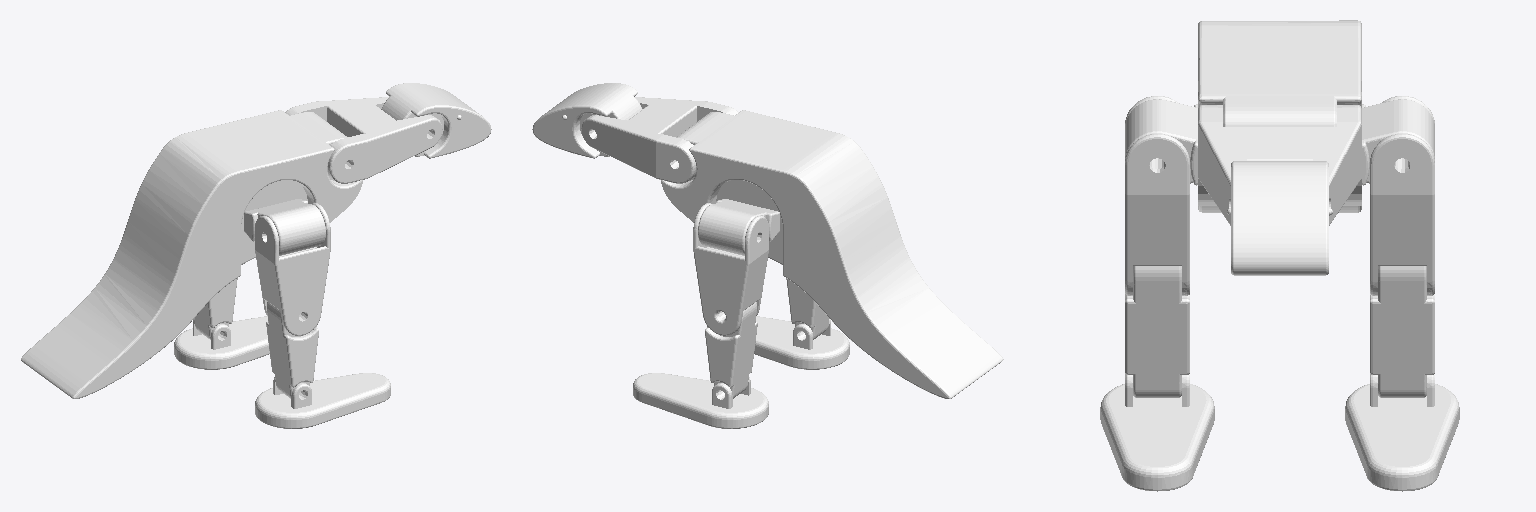
The robot description file, URDF, robot "shi2d2_urdf":
<?xml version="1.0" encoding="utf-8"?>
<!-- This URDF was automatically created by SolidWorks to URDF Exporter! Originally created by Stephen Brawner (brawner@gmail.com) 
     Commit Version: 1.6.0-4-g7f85cfe  Build Version: 1.6.7995.38578
     For more information, please see http://wiki.ros.org/sw_urdf_exporter -->
<robot
  name="shi2d2_urdf">
  <link
    name="body_link">
    <inertial>
      <origin
        xyz="-0.063884 -2.5097E-06 -0.092676"
        rpy="0 0 0" />
      <mass
        value="4.0108" />
      <inertia
        ixx="0.020483"
        ixy="2.1664E-07"
        ixz="-0.017143"
        iyy="0.047181"
        iyz="4.3743E-07"
        izz="0.036127" />
    </inertial>
    <visual>
      <origin
        xyz="0 0 0"
        rpy="0 0 0" />
      <geometry>
        <mesh
          filename="package://shi2d2_urdf/meshes/body_link.STL" />
      </geometry>
      <material
        name="">
        <color
          rgba="1 1 1 1" />
      </material>
    </visual>
    <collision>
      <origin
        xyz="0 0 0"
        rpy="0 0 0" />
      <geometry>
        <mesh
          filename="package://shi2d2_urdf/meshes/body_link.STL" />
      </geometry>
    </collision>
  </link>
  <link
    name="neck_link">
    <inertial>
      <origin
        xyz="0.05422 -5.7504E-08 -2.9221E-08"
        rpy="0 0 0" />
      <mass
        value="0.45339" />
      <inertia
        ixx="0.00074029"
        ixy="2.3864E-09"
        ixz="7.7418E-10"
        iyy="0.00062178"
        iyz="-2.4138E-09"
        izz="0.0011993" />
    </inertial>
    <visual>
      <origin
        xyz="0 0 0"
        rpy="0 0 0" />
      <geometry>
        <mesh
          filename="package://shi2d2_urdf/meshes/neck_link.STL" />
      </geometry>
      <material
        name="">
        <color
          rgba="1 1 1 1" />
      </material>
    </visual>
    <collision>
      <origin
        xyz="0 0 0"
        rpy="0 0 0" />
      <geometry>
        <mesh
          filename="package://shi2d2_urdf/meshes/neck_link.STL" />
      </geometry>
    </collision>
  </link>
  <joint
    name="body_neck_joint"
    type="revolute">
    <origin
      xyz="0.085712 0 -0.0254"
      rpy="0 0 0" />
    <parent
      link="body_link" />
    <child
      link="neck_link" />
    <axis
      xyz="0 -1 0" />
    <limit
      lower="0"
      upper="0"
      effort="0"
      velocity="0" />
  </joint>
  <link
    name="head_link">
    <inertial>
      <origin
        xyz="0.024239 1.445E-06 -0.0023658"
        rpy="0 0 0" />
      <mass
        value="0.39874" />
      <inertia
        ixx="0.00027907"
        ixy="7.6926E-09"
        ixz="4.2548E-05"
        iyy="0.00047118"
        iyz="-5.8575E-09"
        izz="0.00050315" />
    </inertial>
    <visual>
      <origin
        xyz="0 0 0"
        rpy="0 0 0" />
      <geometry>
        <mesh
          filename="package://shi2d2_urdf/meshes/head_link.STL" />
      </geometry>
      <material
        name="">
        <color
          rgba="1 1 1 1" />
      </material>
    </visual>
    <collision>
      <origin
        xyz="0 0 0"
        rpy="0 0 0" />
      <geometry>
        <mesh
          filename="package://shi2d2_urdf/meshes/head_link.STL" />
      </geometry>
    </collision>
  </link>
  <joint
    name="neck_head_joint"
    type="revolute">
    <origin
      xyz="0.12581 0 0"
      rpy="0 0 0" />
    <parent
      link="neck_link" />
    <child
      link="head_link" />
    <axis
      xyz="0 1 0" />
    <limit
      lower="0"
      upper="0"
      effort="0"
      velocity="0" />
  </joint>
  <link
    name="left_hip_link">
    <inertial>
      <origin
        xyz="4.66677864061071E-09 0.0380494307455075 -6.66067329069264E-09"
        rpy="0 0 0" />
      <mass
        value="0.193010455194921" />
      <inertia
        ixx="0.000110085859650749"
        ixy="3.69671821863013E-12"
        ixz="-2.34237855008357E-12"
        iyy="0.000102815907460849"
        iyz="-1.06977079025306E-11"
        izz="0.000154581134204514" />
    </inertial>
    <visual>
      <origin
        xyz="0 0 0"
        rpy="0 0 0" />
      <geometry>
        <mesh
          filename="package://shi2d2_urdf/meshes/left_hip_link.STL" />
      </geometry>
      <material
        name="">
        <color
          rgba="1 1 1 1" />
      </material>
    </visual>
    <collision>
      <origin
        xyz="0 0 0"
        rpy="0 0 0" />
      <geometry>
        <mesh
          filename="package://shi2d2_urdf/meshes/left_hip_link.STL" />
      </geometry>
    </collision>
  </link>
  <joint
    name="body_left_hip_joint"
    type="revolute">
    <origin
      xyz="-0.0095377 0.04445 -0.0762"
      rpy="0 0 0" />
    <parent
      link="body_link" />
    <child
      link="left_hip_link" />
    <axis
      xyz="0 -1 0" />
    <limit
      lower="0"
      upper="0"
      effort="0"
      velocity="0" />
  </joint>
  <link
    name="left_upper_leg_link">
    <inertial>
      <origin
        xyz="2.39391839684799E-16 -6.02898826157494E-06 -0.0517157329701583"
        rpy="0 0 0" />
      <mass
        value="0.252255455007211" />
      <inertia
        ixx="0.000258279208939625"
        ixy="-7.51960991719161E-11"
        ixz="-2.91550284408147E-20"
        iyy="0.00031322388502802"
        iyz="-7.62486093874917E-08"
        izz="0.000180385108717661" />
    </inertial>
    <visual>
      <origin
        xyz="0 0 0"
        rpy="0 0 0" />
      <geometry>
        <mesh
          filename="package://shi2d2_urdf/meshes/left_upper_leg_link.STL" />
      </geometry>
      <material
        name="">
        <color
          rgba="1 1 1 1" />
      </material>
    </visual>
    <collision>
      <origin
        xyz="0 0 0"
        rpy="0 0 0" />
      <geometry>
        <mesh
          filename="package://shi2d2_urdf/meshes/left_upper_leg_link.STL" />
      </geometry>
    </collision>
  </link>
  <joint
    name="left_hip_left_upper_leg_joint"
    type="revolute">
    <origin
      xyz="0 0.0508 0"
      rpy="0 0 0" />
    <parent
      link="left_hip_link" />
    <child
      link="left_upper_leg_link" />
    <axis
      xyz="1 0 0" />
    <limit
      lower="0"
      upper="0"
      effort="0"
      velocity="0" />
  </joint>
  <link
    name="left_lower_leg_link">
    <inertial>
      <origin
        xyz="-1.5341E-09 -8.1749E-09 -0.038913"
        rpy="0 0 0" />
      <mass
        value="0.21961" />
      <inertia
        ixx="0.00030145"
        ixy="-3.9162E-12"
        ixz="9.0665E-12"
        iyy="0.00029492"
        iyz="-1.3588E-11"
        izz="6.8165E-05" />
    </inertial>
    <visual>
      <origin
        xyz="0 0 0"
        rpy="0 0 0" />
      <geometry>
        <mesh
          filename="package://shi2d2_urdf/meshes/left_lower_leg_link.STL" />
      </geometry>
      <material
        name="">
        <color
          rgba="1 1 1 1" />
      </material>
    </visual>
    <collision>
      <origin
        xyz="0 0 0"
        rpy="0 0 0" />
      <geometry>
        <mesh
          filename="package://shi2d2_urdf/meshes/left_lower_leg_link.STL" />
      </geometry>
    </collision>
  </link>
  <joint
    name="left_upper_leg_left_lower_leg_joint"
    type="revolute">
    <origin
      xyz="0 0 -0.1016"
      rpy="0 0 0" />
    <parent
      link="left_upper_leg_link" />
    <child
      link="left_lower_leg_link" />
    <axis
      xyz="0 -1 0" />
    <limit
      lower="0"
      upper="0"
      effort="0"
      velocity="0" />
  </joint>
  <link
    name="left_foot_link">
    <inertial>
      <origin
        xyz="0.03544 5.5511E-17 -0.024879"
        rpy="0 0 0" />
      <mass
        value="0.23125" />
      <inertia
        ixx="0.00011188"
        ixy="-2.0762E-20"
        ixz="5.2483E-06"
        iyy="0.00047901"
        iyz="-3.1773E-21"
        izz="0.00057052" />
    </inertial>
    <visual>
      <origin
        xyz="0 0 0"
        rpy="0 0 0" />
      <geometry>
        <mesh
          filename="package://shi2d2_urdf/meshes/left_foot_link.STL" />
      </geometry>
      <material
        name="">
        <color
          rgba="1 1 1 1" />
      </material>
    </visual>
    <collision>
      <origin
        xyz="0 0 0"
        rpy="0 0 0" />
      <geometry>
        <mesh
          filename="package://shi2d2_urdf/meshes/left_foot_link.STL" />
      </geometry>
    </collision>
  </link>
  <joint
    name="left_lower_leg_left_foot_joint"
    type="revolute">
    <origin
      xyz="0 0 -0.1016"
      rpy="0 0 0" />
    <parent
      link="left_lower_leg_link" />
    <child
      link="left_foot_link" />
    <axis
      xyz="0 -1 0" />
    <limit
      lower="0"
      upper="0"
      effort="0"
      velocity="0" />
  </joint>
  <link
    name="right_hip_link">
    <inertial>
      <origin
        xyz="4.6668E-09 -0.038049 6.6607E-09"
        rpy="0 0 0" />
      <mass
        value="0.19301" />
      <inertia
        ixx="0.00011009"
        ixy="-3.6967E-12"
        ixz="2.3424E-12"
        iyy="0.00010282"
        iyz="-1.0698E-11"
        izz="0.00015458" />
    </inertial>
    <visual>
      <origin
        xyz="0 0 0"
        rpy="0 0 0" />
      <geometry>
        <mesh
          filename="package://shi2d2_urdf/meshes/right_hip_link.STL" />
      </geometry>
      <material
        name="">
        <color
          rgba="1 1 1 1" />
      </material>
    </visual>
    <collision>
      <origin
        xyz="0 0 0"
        rpy="0 0 0" />
      <geometry>
        <mesh
          filename="package://shi2d2_urdf/meshes/right_hip_link.STL" />
      </geometry>
    </collision>
  </link>
  <joint
    name="body_right_hip_joint"
    type="revolute">
    <origin
      xyz="-0.0095377 -0.04445 -0.0762"
      rpy="0 0 0" />
    <parent
      link="body_link" />
    <child
      link="right_hip_link" />
    <axis
      xyz="0 -1 0" />
    <limit
      lower="0"
      upper="0"
      effort="0"
      velocity="0" />
  </joint>
  <link
    name="right_upper_leg_link">
    <inertial>
      <origin
        xyz="1.0061E-16 -6.029E-06 -0.051716"
        rpy="0 0 0" />
      <mass
        value="0.25226" />
      <inertia
        ixx="0.00025828"
        ixy="-7.5196E-11"
        ixz="-6.9884E-20"
        iyy="0.00031322"
        iyz="-7.6249E-08"
        izz="0.00018039" />
    </inertial>
    <visual>
      <origin
        xyz="0 0 0"
        rpy="0 0 0" />
      <geometry>
        <mesh
          filename="package://shi2d2_urdf/meshes/right_upper_leg_link.STL" />
      </geometry>
      <material
        name="">
        <color
          rgba="1 1 1 1" />
      </material>
    </visual>
    <collision>
      <origin
        xyz="0 0 0"
        rpy="0 0 0" />
      <geometry>
        <mesh
          filename="package://shi2d2_urdf/meshes/right_upper_leg_link.STL" />
      </geometry>
    </collision>
  </link>
  <joint
    name="right_hip_right_upper_leg_joint"
    type="revolute">
    <origin
      xyz="0 -0.0508 0"
      rpy="0 0 0" />
    <parent
      link="right_hip_link" />
    <child
      link="right_upper_leg_link" />
    <axis
      xyz="1 0 0" />
    <limit
      lower="0"
      upper="0"
      effort="0"
      velocity="0" />
  </joint>
  <link
    name="right_lower_leg_link">
    <inertial>
      <origin
        xyz="-1.5341E-09 -8.1749E-09 -0.038913"
        rpy="0 0 0" />
      <mass
        value="0.21961" />
      <inertia
        ixx="0.00030145"
        ixy="-3.9162E-12"
        ixz="9.0665E-12"
        iyy="0.00029492"
        iyz="-1.3588E-11"
        izz="6.8165E-05" />
    </inertial>
    <visual>
      <origin
        xyz="0 0 0"
        rpy="0 0 0" />
      <geometry>
        <mesh
          filename="package://shi2d2_urdf/meshes/right_lower_leg_link.STL" />
      </geometry>
      <material
        name="">
        <color
          rgba="1 1 1 1" />
      </material>
    </visual>
    <collision>
      <origin
        xyz="0 0 0"
        rpy="0 0 0" />
      <geometry>
        <mesh
          filename="package://shi2d2_urdf/meshes/right_lower_leg_link.STL" />
      </geometry>
    </collision>
  </link>
  <joint
    name="right_upper_leg_right_lower_leg_link"
    type="revolute">
    <origin
      xyz="0 0 -0.1016"
      rpy="0 0 0" />
    <parent
      link="right_upper_leg_link" />
    <child
      link="right_lower_leg_link" />
    <axis
      xyz="0 -1 0" />
    <limit
      lower="0"
      upper="0"
      effort="0"
      velocity="0" />
  </joint>
  <link
    name="right_foot_link">
    <inertial>
      <origin
        xyz="0.03544 1.1102E-16 -0.024879"
        rpy="0 0 0" />
      <mass
        value="0.23125" />
      <inertia
        ixx="0.00011188"
        ixy="-4.3868E-20"
        ixz="5.2483E-06"
        iyy="0.00047901"
        iyz="3.5743E-21"
        izz="0.00057052" />
    </inertial>
    <visual>
      <origin
        xyz="0 0 0"
        rpy="0 0 0" />
      <geometry>
        <mesh
          filename="package://shi2d2_urdf/meshes/right_foot_link.STL" />
      </geometry>
      <material
        name="">
        <color
          rgba="1 1 1 1" />
      </material>
    </visual>
    <collision>
      <origin
        xyz="0 0 0"
        rpy="0 0 0" />
      <geometry>
        <mesh
          filename="package://shi2d2_urdf/meshes/right_foot_link.STL" />
      </geometry>
    </collision>
  </link>
  <joint
    name="right_lower_leg_right_foot_joint"
    type="revolute">
    <origin
      xyz="0 0 -0.1016"
      rpy="0 0 0" />
    <parent
      link="right_lower_leg_link" />
    <child
      link="right_foot_link" />
    <axis
      xyz="0 -1 0" />
    <limit
      lower="0"
      upper="0"
      effort="0"
      velocity="0" />
  </joint>
</robot>

--- Facts derived from the render (not from the file) ---
3 views of the same robot in one strip: view 1: azimuth 30°, elevation 25°; view 2: azimuth 150°, elevation 25°; view 3: azimuth 270°, elevation 25° (orthographic).
Model shi2d2_urdf with 11 links and 10 joints (10 revolute), rooted at body_link, posed all joints at 0.
Links seen in each view (by area): view 1: body_link, neck_link, right_upper_leg_link, right_foot_link, head_link, left_foot_link, right_lower_leg_link, right_hip_link, left_lower_leg_link; view 2: body_link, neck_link, left_upper_leg_link, left_foot_link, head_link, right_foot_link, left_lower_leg_link, left_hip_link, right_lower_leg_link; view 3: body_link, head_link, right_foot_link, left_foot_link, neck_link, left_upper_leg_link, right_upper_leg_link, left_lower_leg_link, right_lower_leg_link, right_hip_link, left_hip_link.
Boxes of the visible links, x1,y1,x2,y2 form: body_link: (21,110,362,398); neck_link: (285,97,442,183); right_upper_leg_link: (255,203,330,335); right_foot_link: (255,373,390,428); head_link: (381,83,491,158); left_foot_link: (174,316,269,369); right_lower_leg_link: (266,302,318,398); right_hip_link: (244,199,325,255); left_lower_leg_link: (194,278,237,339); body_link: (661,110,1003,398); neck_link: (581,97,738,183); left_upper_leg_link: (693,203,768,335); left_foot_link: (633,373,768,428); head_link: (532,83,642,158); right_foot_link: (754,316,849,369); left_lower_leg_link: (705,302,757,398); left_hip_link: (698,199,779,255); right_lower_leg_link: (786,278,829,339); body_link: (1198,20,1361,212); head_link: (1227,161,1332,275); right_foot_link: (1100,374,1214,491); left_foot_link: (1345,374,1459,491); neck_link: (1198,105,1361,225); left_upper_leg_link: (1370,96,1434,295); right_upper_leg_link: (1125,96,1189,295); left_lower_leg_link: (1370,266,1434,397); right_lower_leg_link: (1125,266,1189,397); right_hip_link: (1125,99,1197,185); left_hip_link: (1362,99,1434,185).
Size in the robot's own frame: 0.5841 by 0.2794 by 0.3239 metres.
11 mesh visuals loaded from 11 distinct referenced files (11 binary STL).
